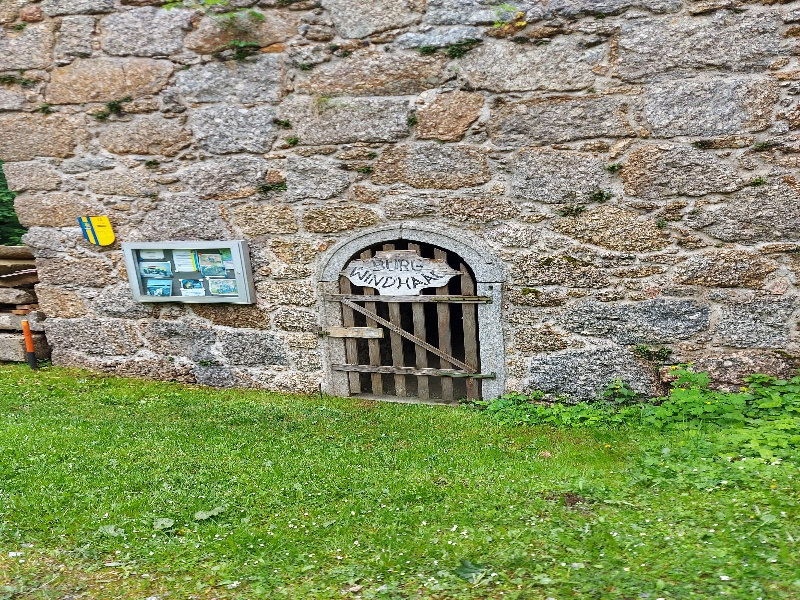dungeon: (305, 209, 517, 413)
